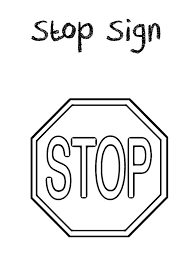SS: (29, 100, 172, 236)
